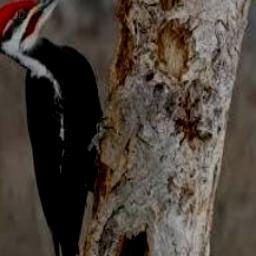Woodpecker: (0, 0, 104, 256)
